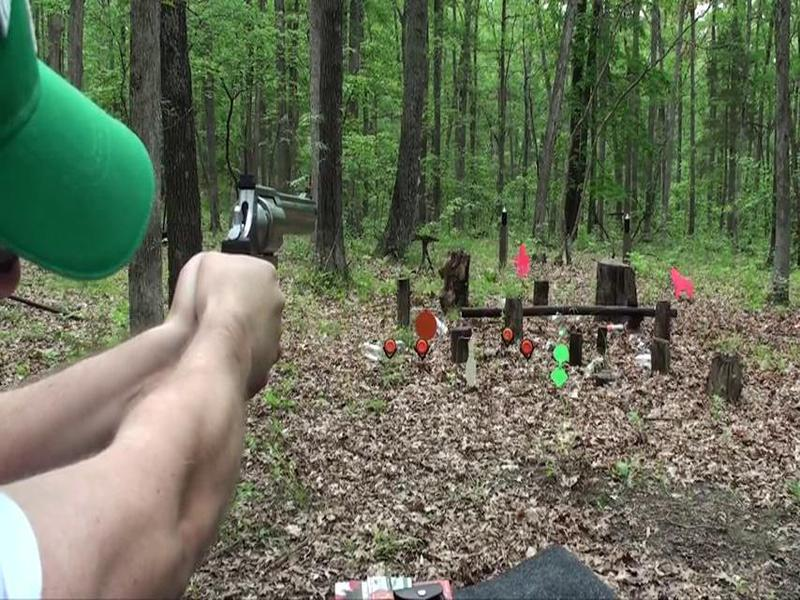Revolver: (202, 174, 330, 275)
